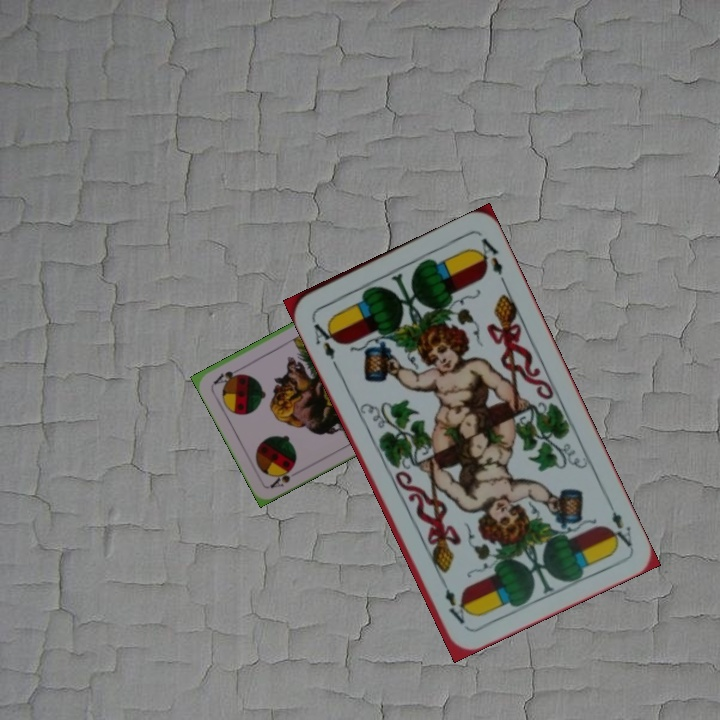EA: (307, 314, 341, 369), (602, 495, 635, 550)
SA: (266, 462, 303, 491)
